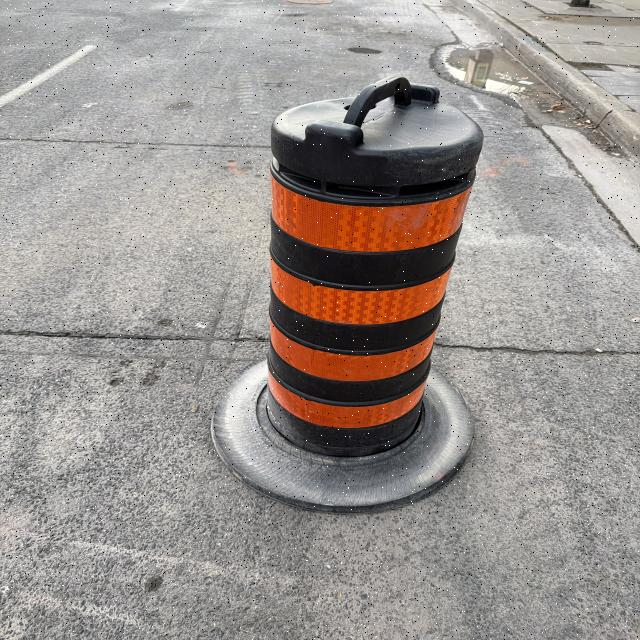Teraffic Barrel: (213, 77, 482, 510)
